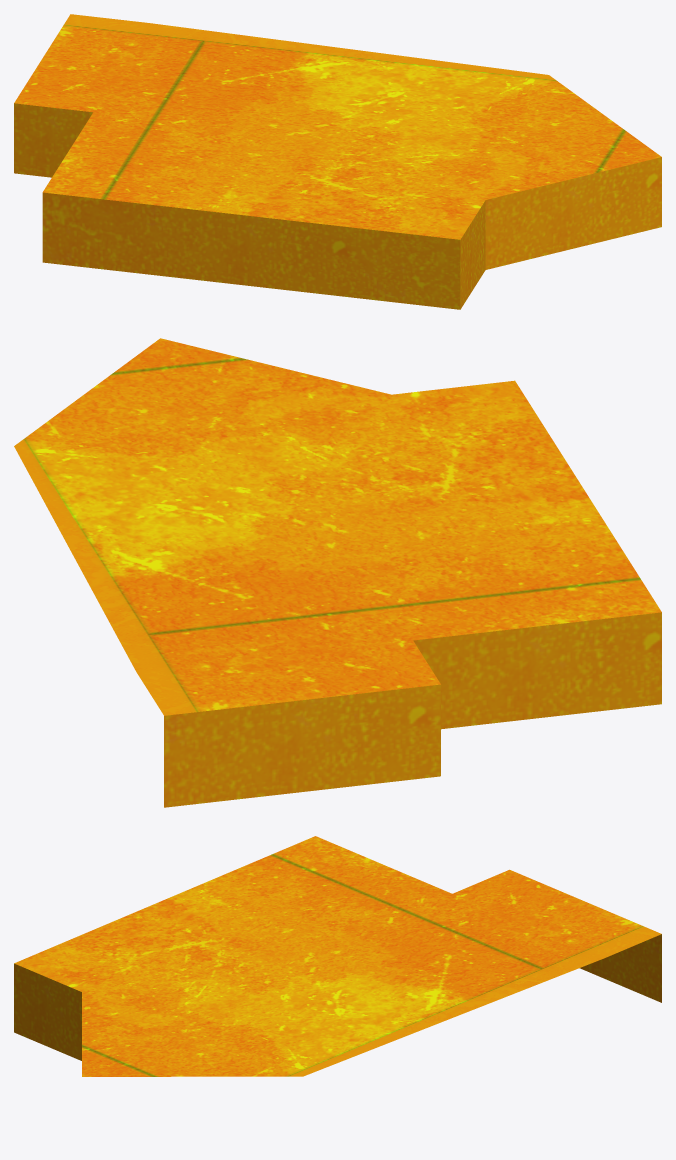
Rendered from FacilityPlatform_01_SM_Low.fbx.
3 renders of one model, top to bottom at view 1: azimuth 30°, elevation 25°; view 2: azimuth 150°, elevation 25°; view 3: azimuth 270°, elevation 25°, orthographic. The views are drawn at different scales.
Visible parts, largest first — view 1: facility_platform_01_geo; view 2: facility_platform_01_geo; view 3: facility_platform_01_geo.
Part boxes in pixels (left/top/right/bottom): facility_platform_01_geo: left=14, top=14, right=661, bottom=309; facility_platform_01_geo: left=14, top=338, right=661, bottom=807; facility_platform_01_geo: left=14, top=836, right=661, bottom=1076.
Size of the model in its own units: 1041 by 139 by 1183.
Materials: 2 (2 with a texture image).
